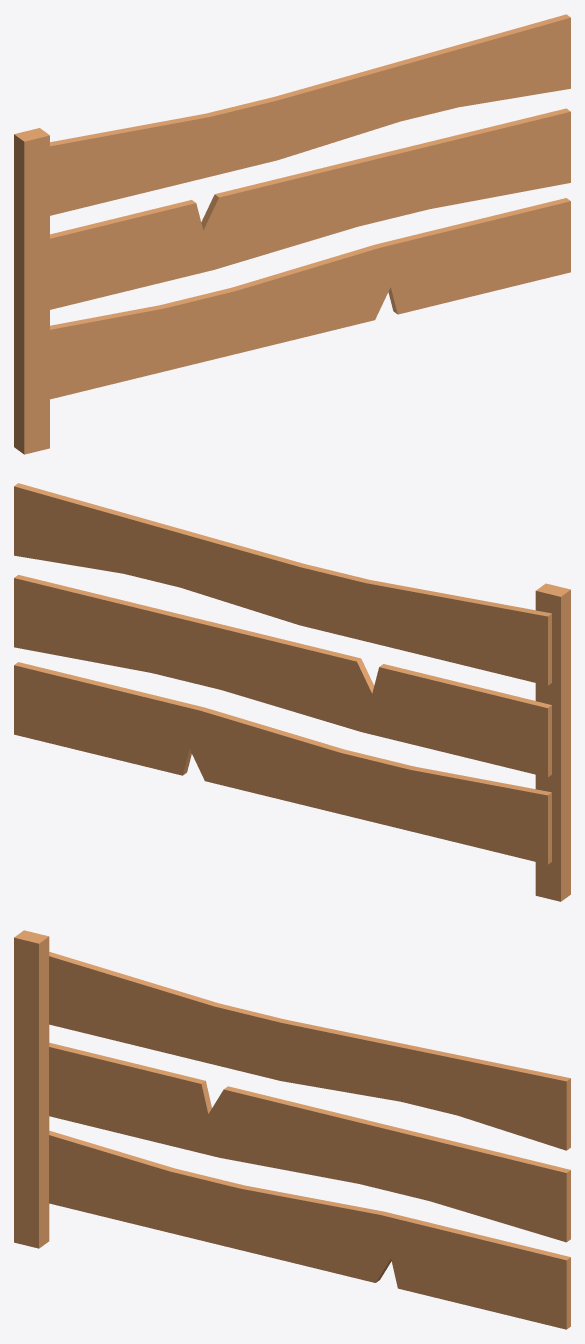
File: fench02.fbx
The picture shows the model from 3 angles, top to bottom: view 1: azimuth 30°, elevation 25°; view 2: azimuth 150°, elevation 25°; view 3: azimuth 330°, elevation 25°; orthographic projection. The views are drawn at different scales.
Parts seen in each view (by area): view 1: fench02; view 2: fench02; view 3: fench02.
Part boxes in pixels (x1,y1,x2,y2): fench02: [14, 14, 570, 454]; fench02: [14, 483, 570, 901]; fench02: [14, 930, 570, 1329].
Size of the model in its own units: 6.53 by 3.51 by 0.2982.
